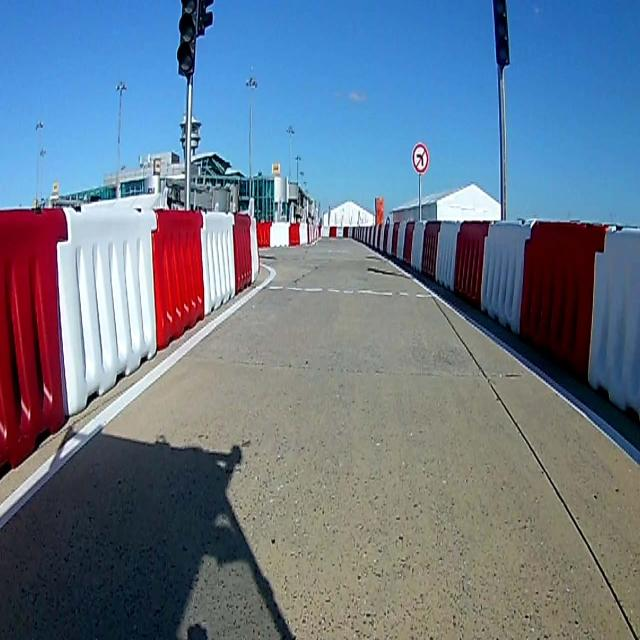soladonulmez: (412, 142, 429, 174)
